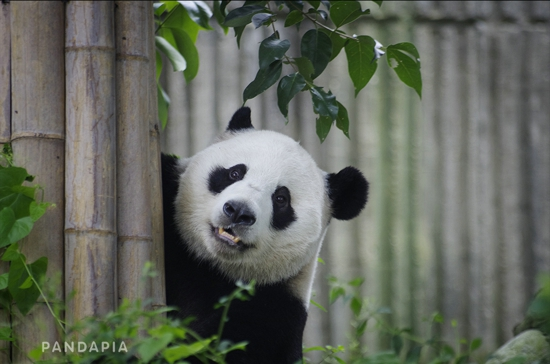panda: (161, 101, 377, 364)
